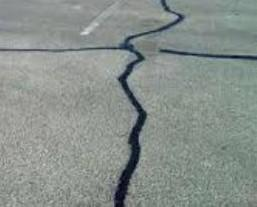crack: (112, 1, 185, 207), (158, 44, 256, 66), (1, 45, 118, 57)
